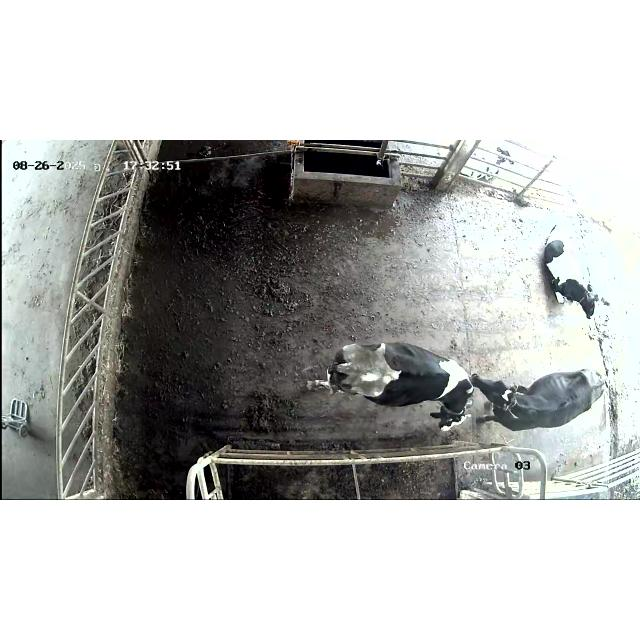stand: (307, 342, 475, 431), (471, 369, 605, 431)
